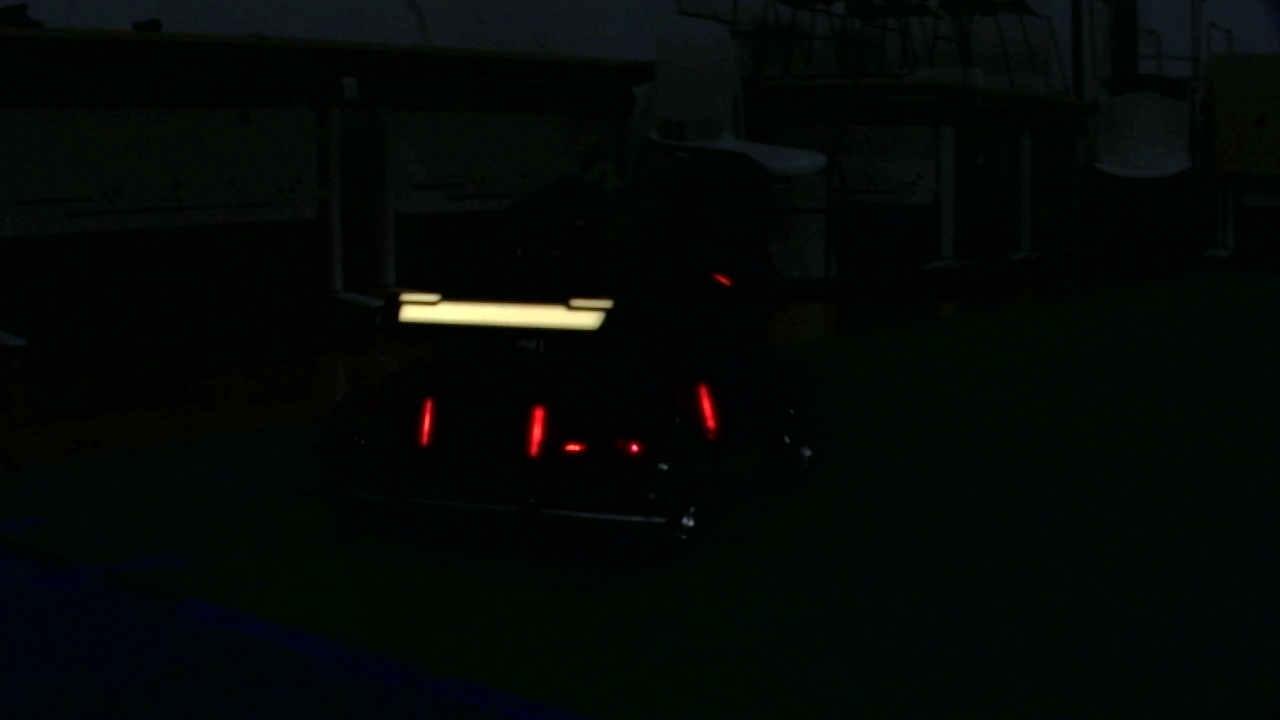lamp: (696, 374, 720, 435), (523, 398, 543, 465), (422, 395, 437, 451)
notpair1: (524, 376, 719, 464)
pair1: (422, 397, 546, 463)
